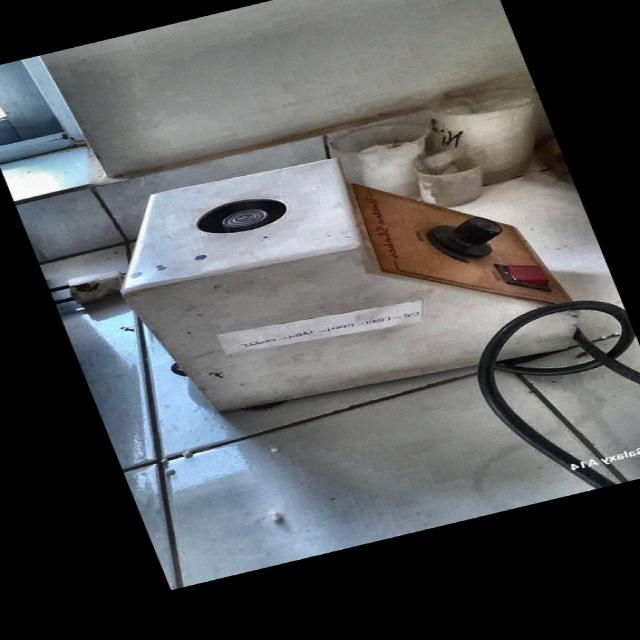Vortex: (83, 105, 598, 432)
